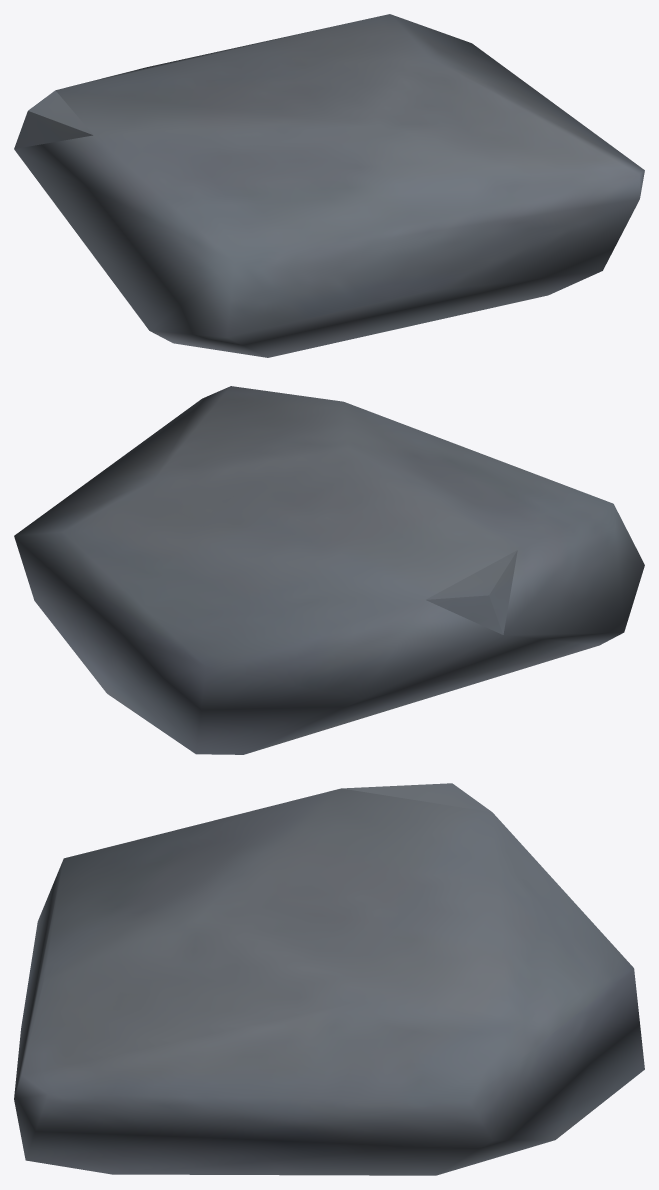
File: Battle_yiciyuankongjian_xiaoshitou_06_fbx.fbx
3 views of the same model, one above another, from view 1: azimuth 30°, elevation 25°; view 2: azimuth 150°, elevation 25°; view 3: azimuth 270°, elevation 25° (orthographic). The views are drawn at different scales.
Visible parts, largest first — view 1: Battle_yiciyuankongjian_xiaoshitou_06_fbx; view 2: Battle_yiciyuankongjian_xiaoshitou_06_fbx; view 3: Battle_yiciyuankongjian_xiaoshitou_06_fbx.
Boxes of the visible parts, bbox=[...] form: Battle_yiciyuankongjian_xiaoshitou_06_fbx: bbox=[14, 14, 644, 357]; Battle_yiciyuankongjian_xiaoshitou_06_fbx: bbox=[14, 386, 644, 754]; Battle_yiciyuankongjian_xiaoshitou_06_fbx: bbox=[14, 783, 644, 1175].
Bounding box in the file's own units: 235 × 72.43 × 232.
